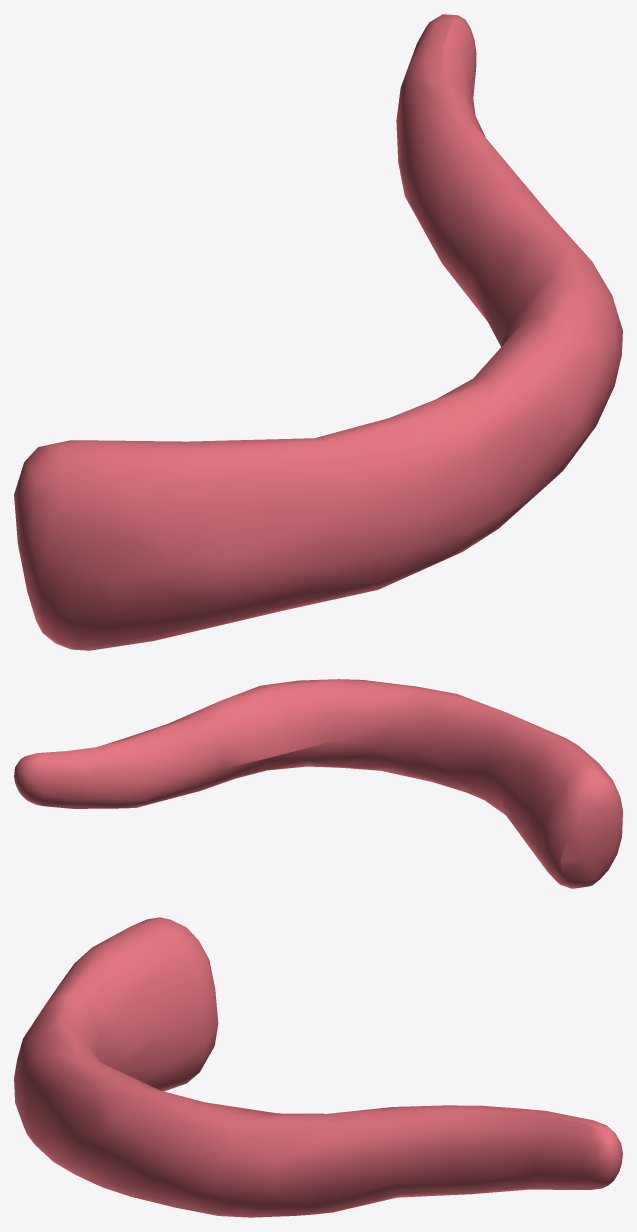
The model's file is fma14336_fj3477.glb.
The picture shows the model from 3 angles, top to bottom: view 1: azimuth 30°, elevation 25°; view 2: azimuth 150°, elevation 25°; view 3: azimuth 270°, elevation 25°; orthographic projection. The views are drawn at different scales.
Parts seen in each view (by area): view 1: FMA14336_FJ3477; view 2: FMA14336_FJ3477; view 3: FMA14336_FJ3477.
Boxes of the visible parts, x1,y1,x2,y2 form: FMA14336_FJ3477: (14,14,622,650); FMA14336_FJ3477: (14,679,622,888); FMA14336_FJ3477: (14,917,622,1217).
Bounding box in the file's own units: 0.0475 × 0.0165 × 0.0428.
